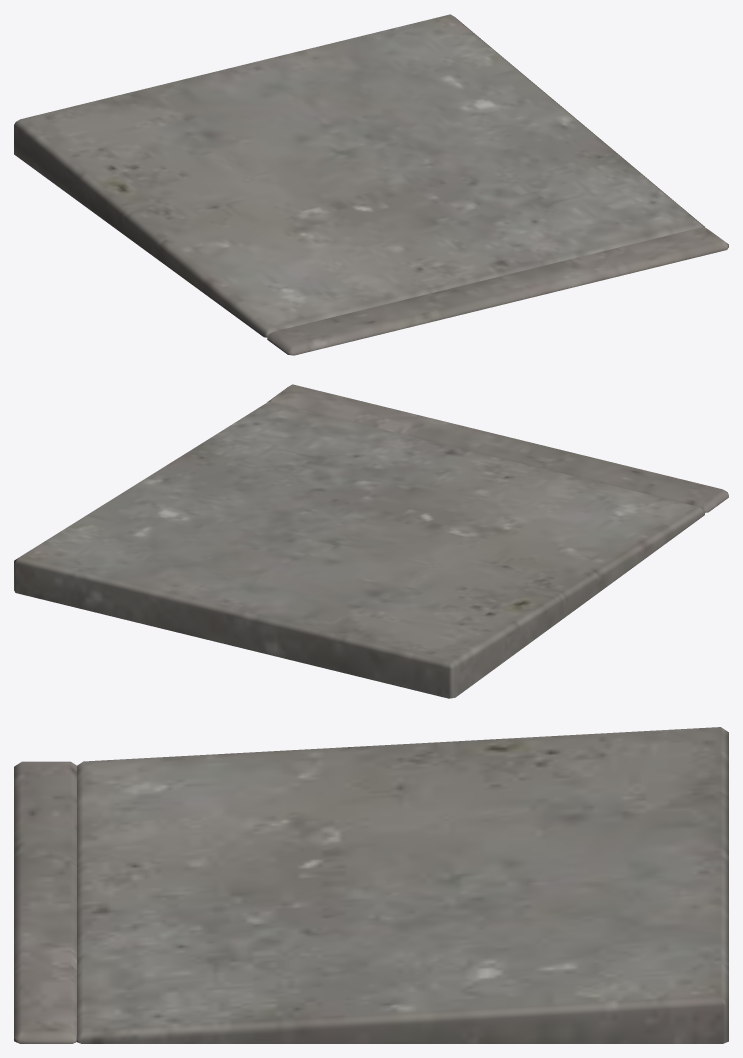
The model's file is SidewalkDrivewayMiddle.glb.
The picture shows the model from 3 angles, top to bottom: view 1: azimuth 30°, elevation 25°; view 2: azimuth 150°, elevation 25°; view 3: azimuth 270°, elevation 25°; orthographic projection. The views are drawn at different scales.
Parts seen in each view (by area): view 1: DrivewayMid1_SidewalkMat_0; view 2: DrivewayMid1_SidewalkMat_0; view 3: DrivewayMid1_SidewalkMat_0.
Boxes of the visible parts, x1,y1,x2,y2 form: DrivewayMid1_SidewalkMat_0: (14,14,728,355); DrivewayMid1_SidewalkMat_0: (14,384,728,698); DrivewayMid1_SidewalkMat_0: (14,727,728,1043).
Size of the model in its own units: 2.01 by 0.1494 by 2.2.
Materials: 1 (1 with a texture image).
